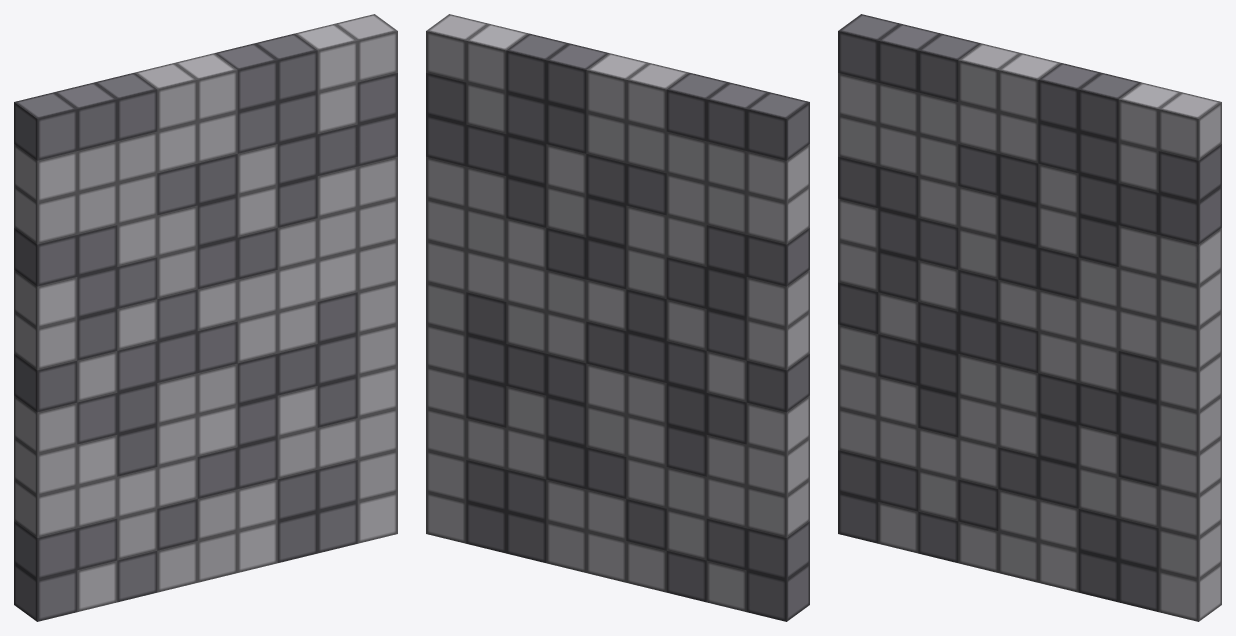
The model's file is poster_foil.glb.
The picture shows the model from 3 angles, left to right: view 1: azimuth 30°, elevation 25°; view 2: azimuth 150°, elevation 25°; view 3: azimuth 330°, elevation 25°; orthographic projection.
Parts seen in each view (by area): view 1: poster_foil; view 2: poster_foil; view 3: poster_foil.
Part boxes in pixels (left/top/right/bottom): poster_foil: left=14, top=14, right=397, bottom=621; poster_foil: left=426, top=14, right=809, bottom=621; poster_foil: left=838, top=14, right=1221, bottom=621.
Size of the model in its own units: 0.45 by 0.6 by 0.05.
2 materials, 2 textured.
